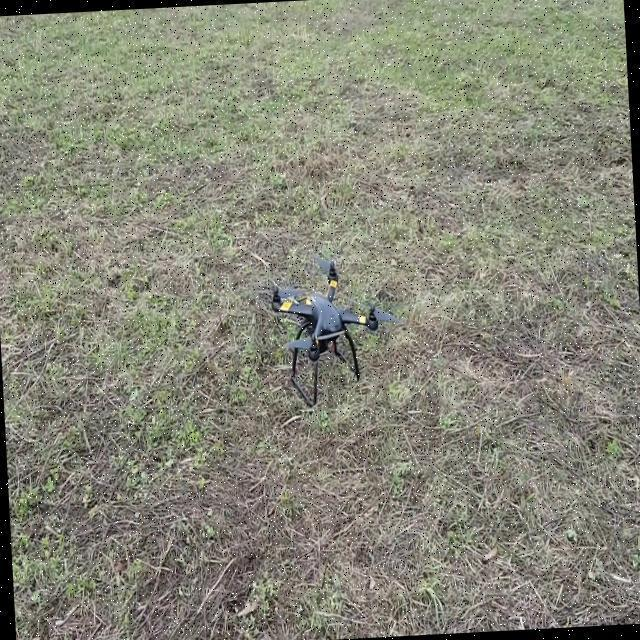Drons: (250, 249, 403, 414)
